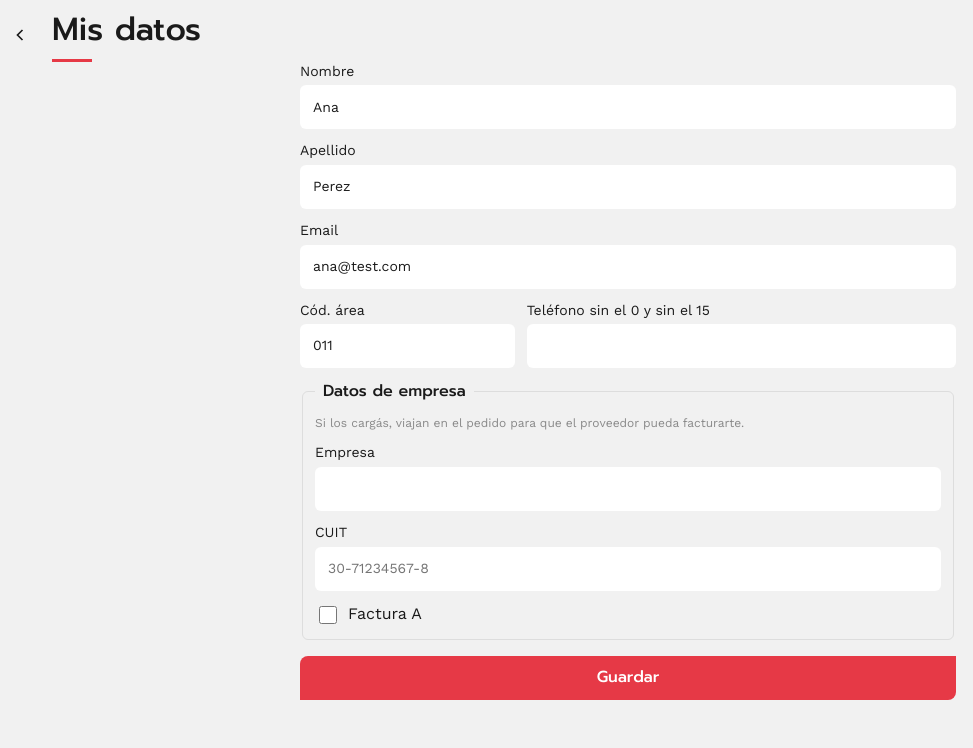
Test: DetalleUsuario: teléfono y código de área › no deja guardar con menos de 8 dígitos
Click the button "Guardar". click: (628, 678)
box: [300, 656, 956, 700]
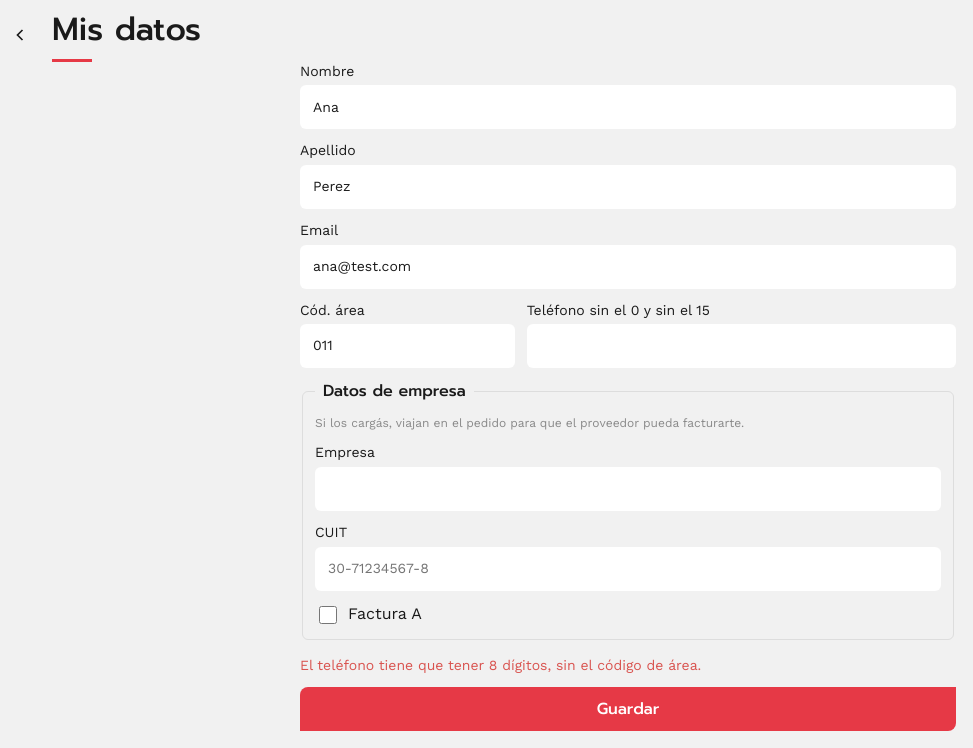
Result: the text "El teléfono tiene que tener 8 dígitos, sin el código de área." is shown at [300, 656, 701, 672]
